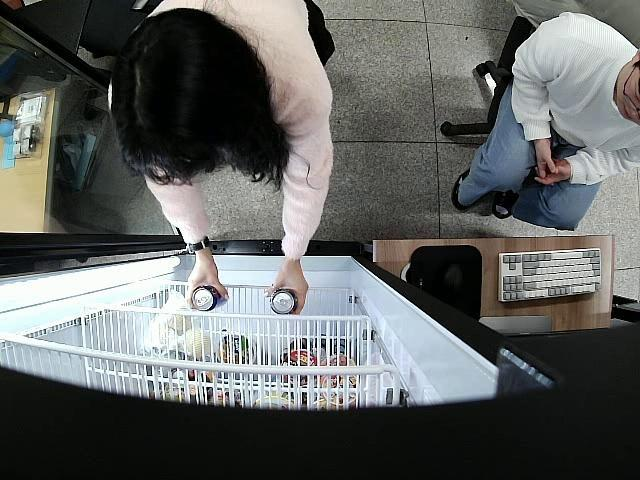14_welchsGrape: (190, 282, 231, 313), (268, 288, 298, 316)
